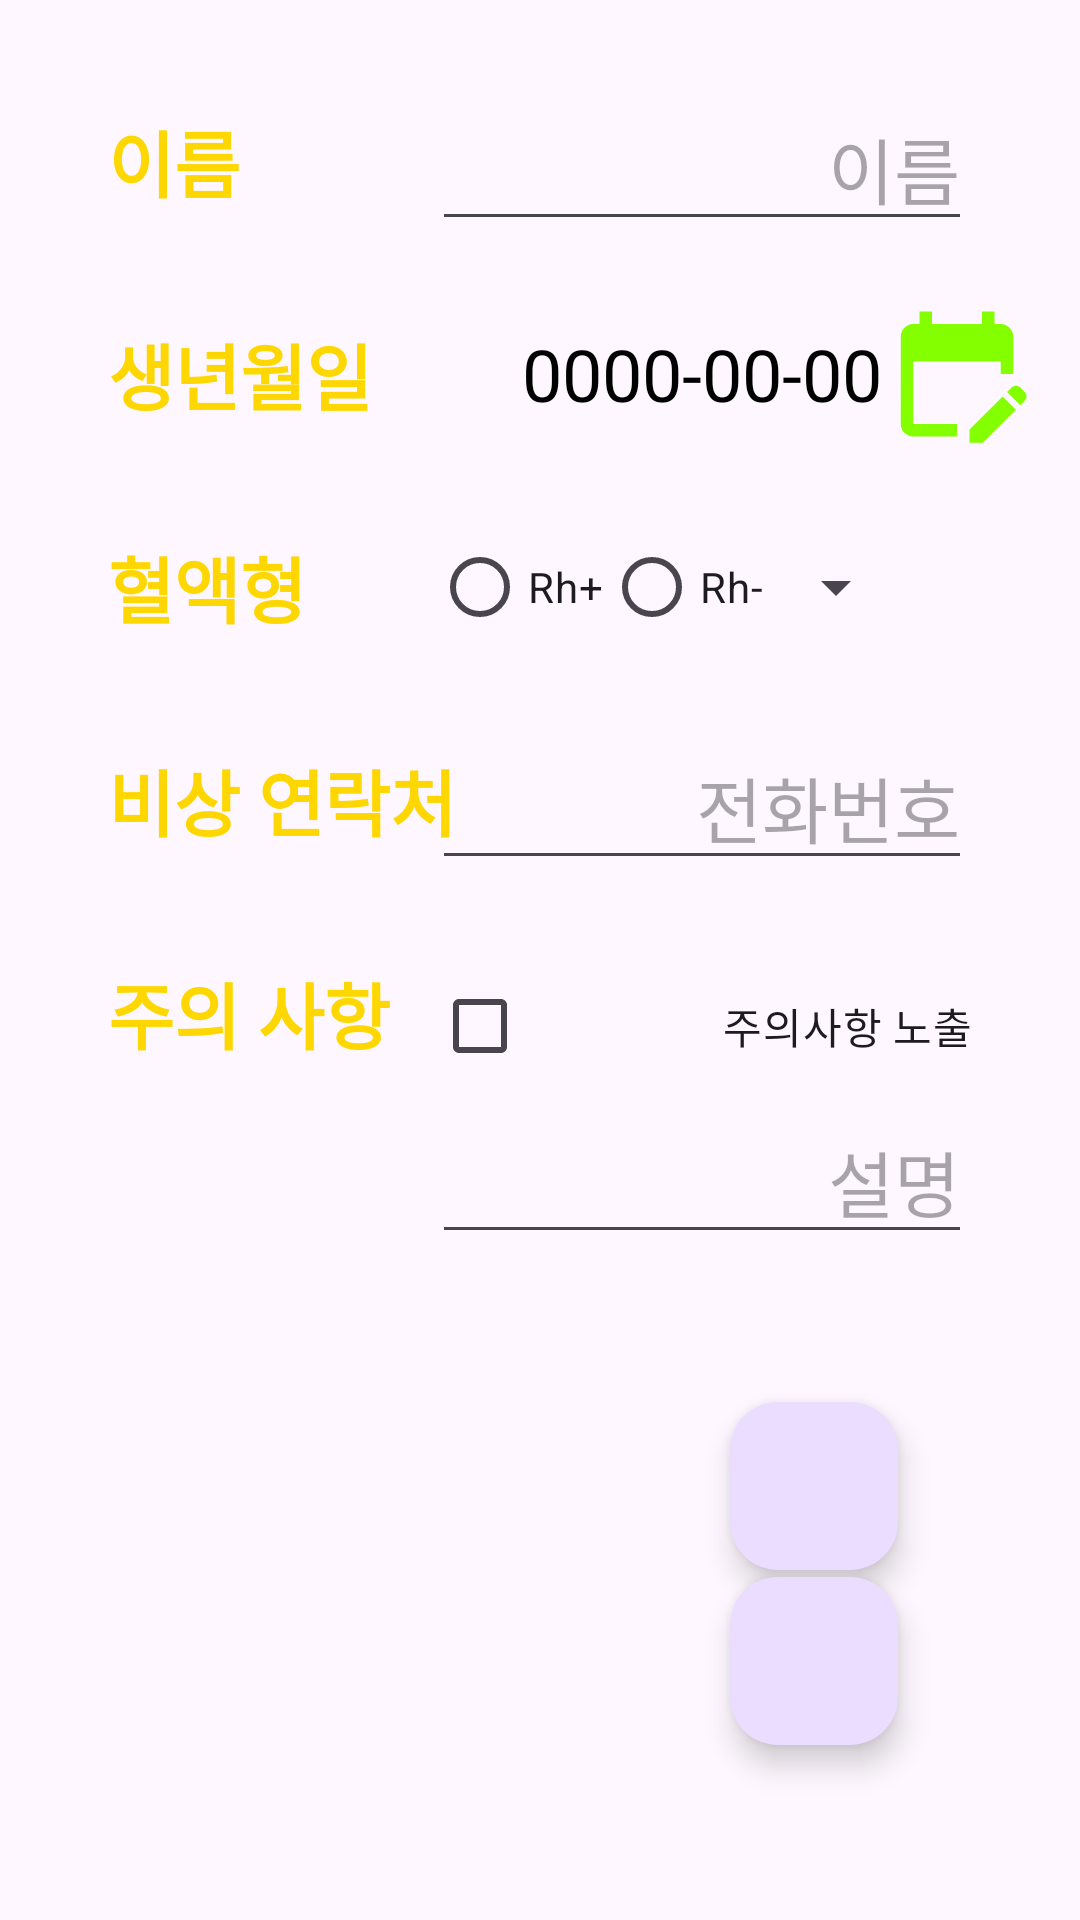

Icons on this 1080w x 1920h Android screen, each with the point to tap as (x=x, y=y):
edit calendar: (x=963, y=377)
